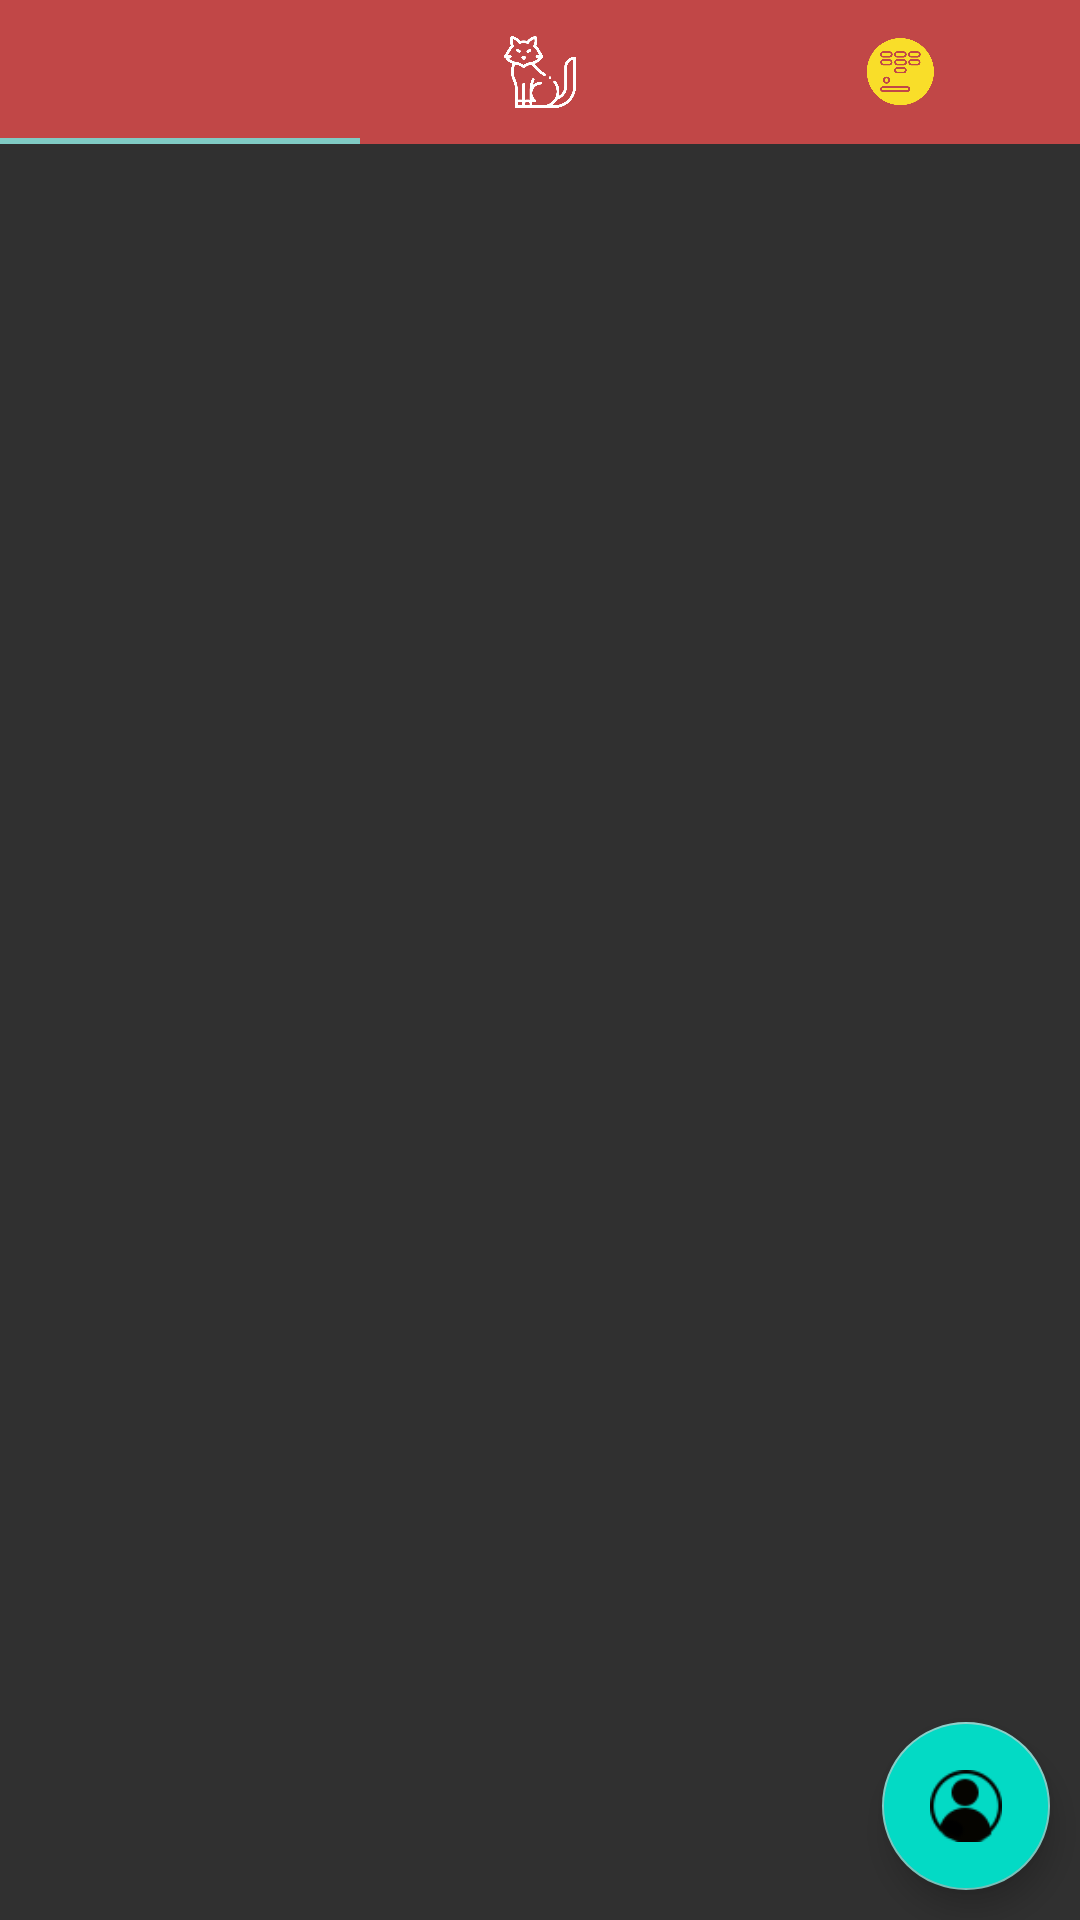

Icons on this 1080×1920 Android screen, each with its box as (x1, y1, x2, y2):
user: (882, 1722, 1050, 1890)
